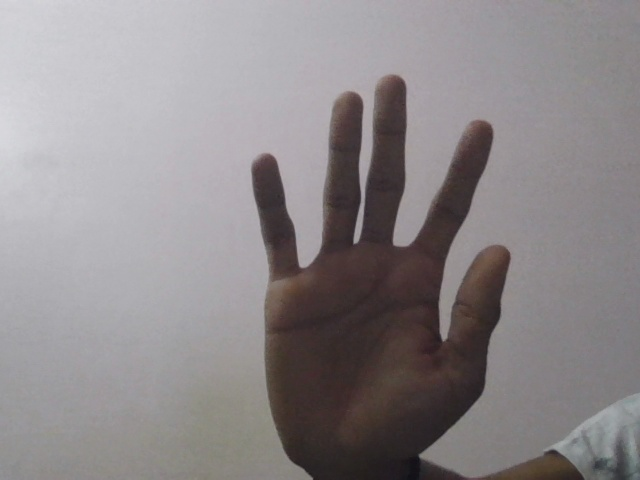hello: (227, 62, 534, 480)
